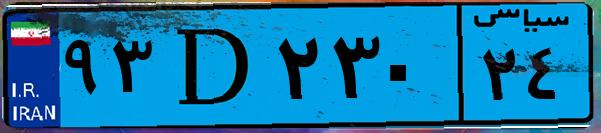0: (385, 28, 445, 110)
2: (270, 28, 330, 110), (475, 38, 525, 113)
3: (330, 28, 385, 110), (110, 28, 158, 98)
4: (525, 38, 570, 115)
9: (57, 26, 110, 100)
D: (158, 12, 270, 120)
